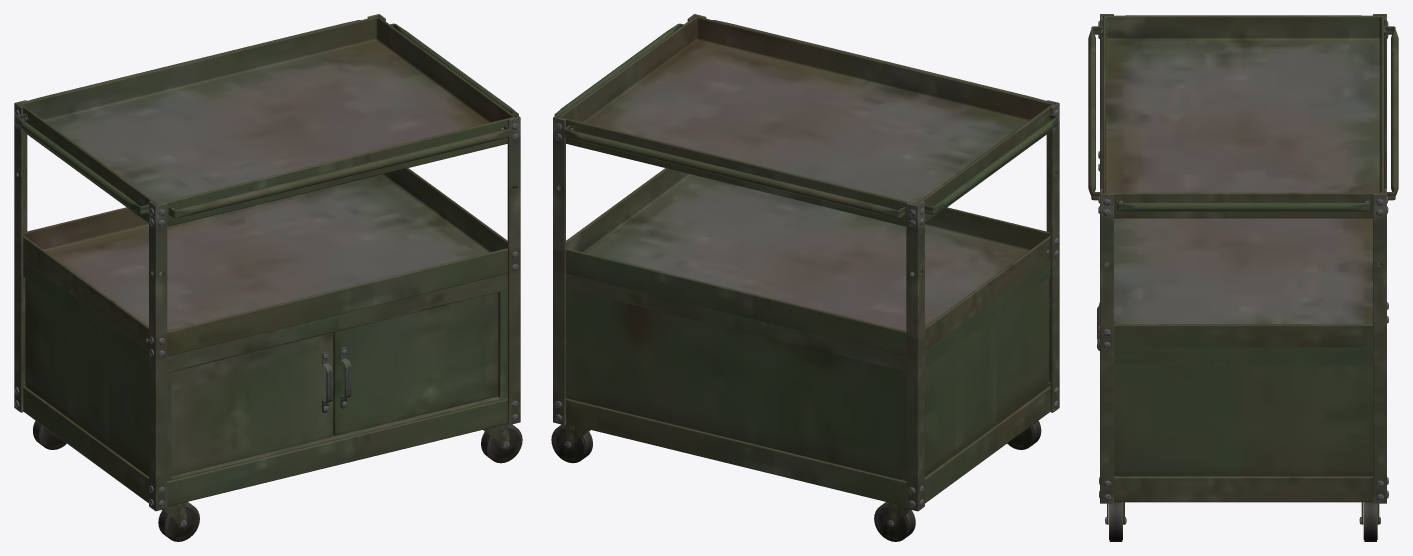
Rendered from storage_cart.glb.
3 views of the same model, side by side, from view 1: azimuth 30°, elevation 25°; view 2: azimuth 150°, elevation 25°; view 3: azimuth 270°, elevation 25° (orthographic).
Parts seen in each view (by area): view 1: industrial_storage_cart; view 2: industrial_storage_cart; view 3: industrial_storage_cart.
Boxes of the visible parts, box(x1,y1,x2,y2) form: industrial_storage_cart: box(14, 14, 522, 541); industrial_storage_cart: box(551, 14, 1059, 541); industrial_storage_cart: box(1088, 14, 1398, 541).
Size of the model in its own units: 1.6 by 1.38 by 1.1.
1 material, 1 textured.
